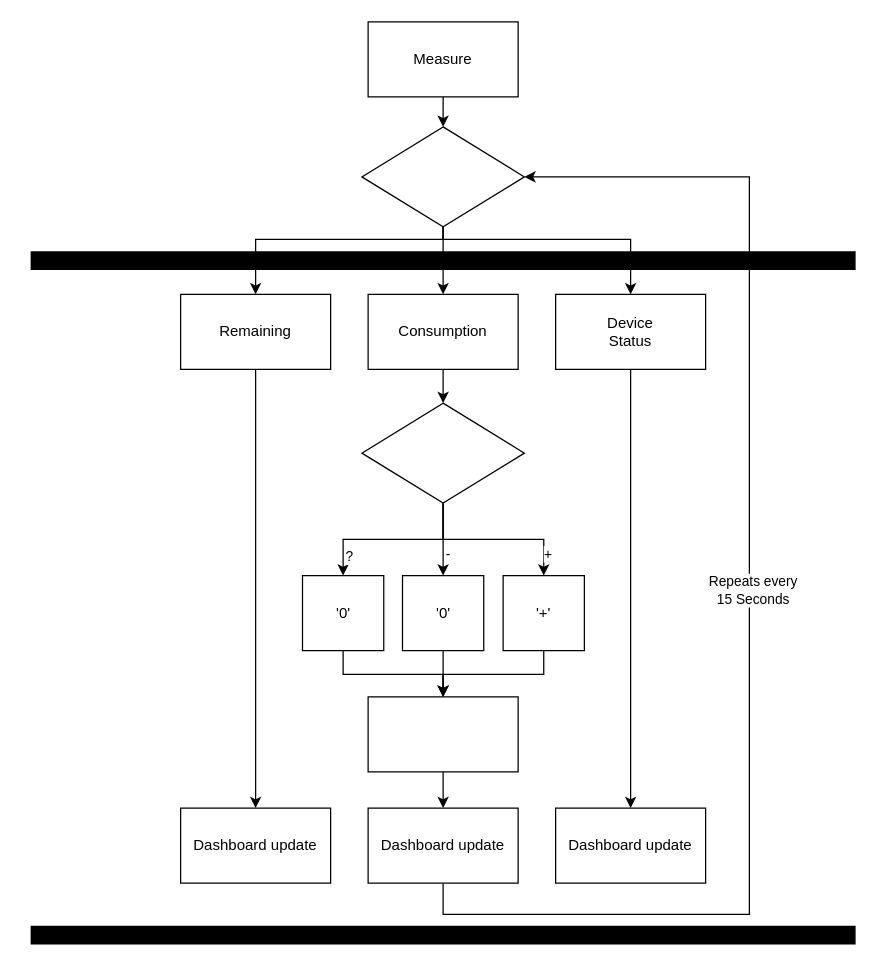
The diagram is 888 pixels wide and 968 high, and some of its shapes have lost their labels. Each missing label, with the centre of its shape:
"Calibrate" goes at (x=442, y=176).
"Old record - Current record" goes at (x=442, y=452).
"Table daily update" goes at (x=442, y=734).
